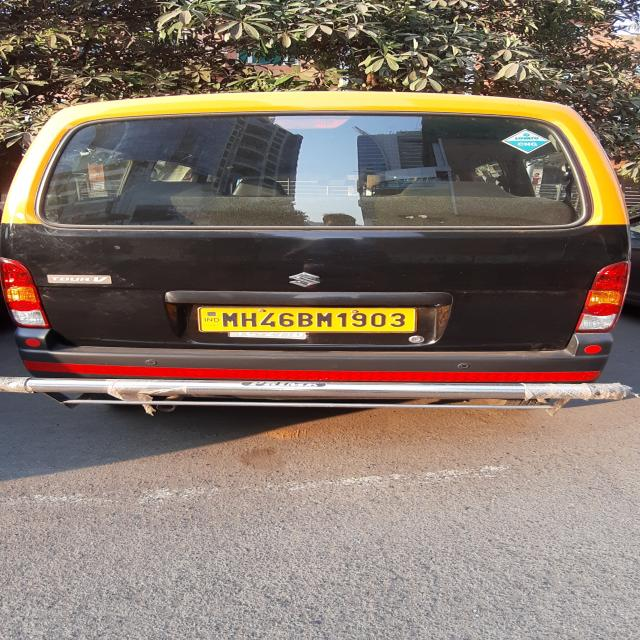Number-Plate: (199, 308, 414, 331), (201, 310, 413, 333), (202, 310, 417, 332), (204, 308, 414, 330), (203, 320, 294, 323)
